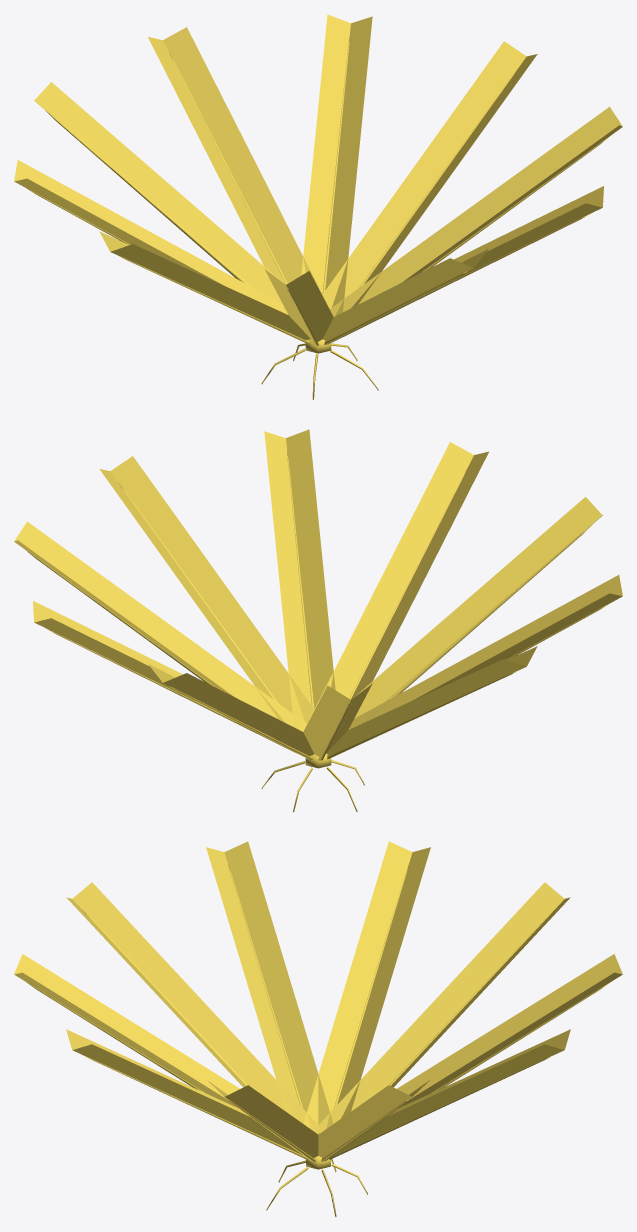
Rendered from crinoid_feather_star_lo.glb.
3 views of the same model, one above another, from view 1: azimuth 30°, elevation 25°; view 2: azimuth 150°, elevation 25°; view 3: azimuth 270°, elevation 25° (orthographic). The views are drawn at different scales.
Visible parts, largest first — view 1: crinoid_feather_star_lo; view 2: crinoid_feather_star_lo; view 3: crinoid_feather_star_lo.
Part boxes in pixels (box(x1,y1,x2,y2)): crinoid_feather_star_lo: box(14, 14, 622, 400); crinoid_feather_star_lo: box(14, 429, 622, 812); crinoid_feather_star_lo: box(14, 841, 622, 1217).
Size of the model in its own units: 0.2573 by 0.1137 by 0.2705.
